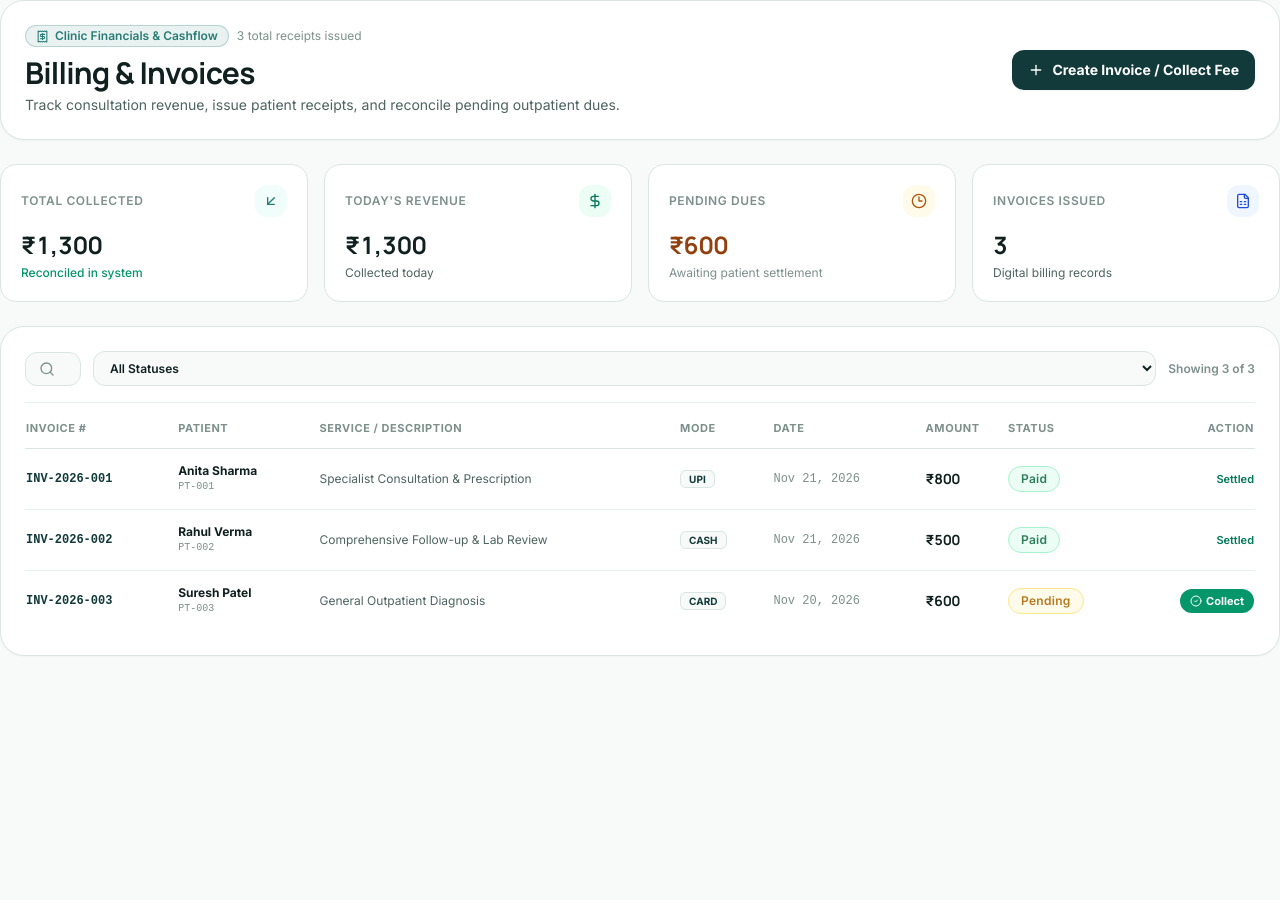
Test case: Phase 2: Role-Based Auth, Viewport Layout & Operational Views › BillingPage Component › allows creating a new patient invoice and persists it
Later steps or results of the test are not shown.
# Open modal
Click the button "Create Invoice / Collect Fee" at (1134, 70), box [1012, 50, 1255, 90]
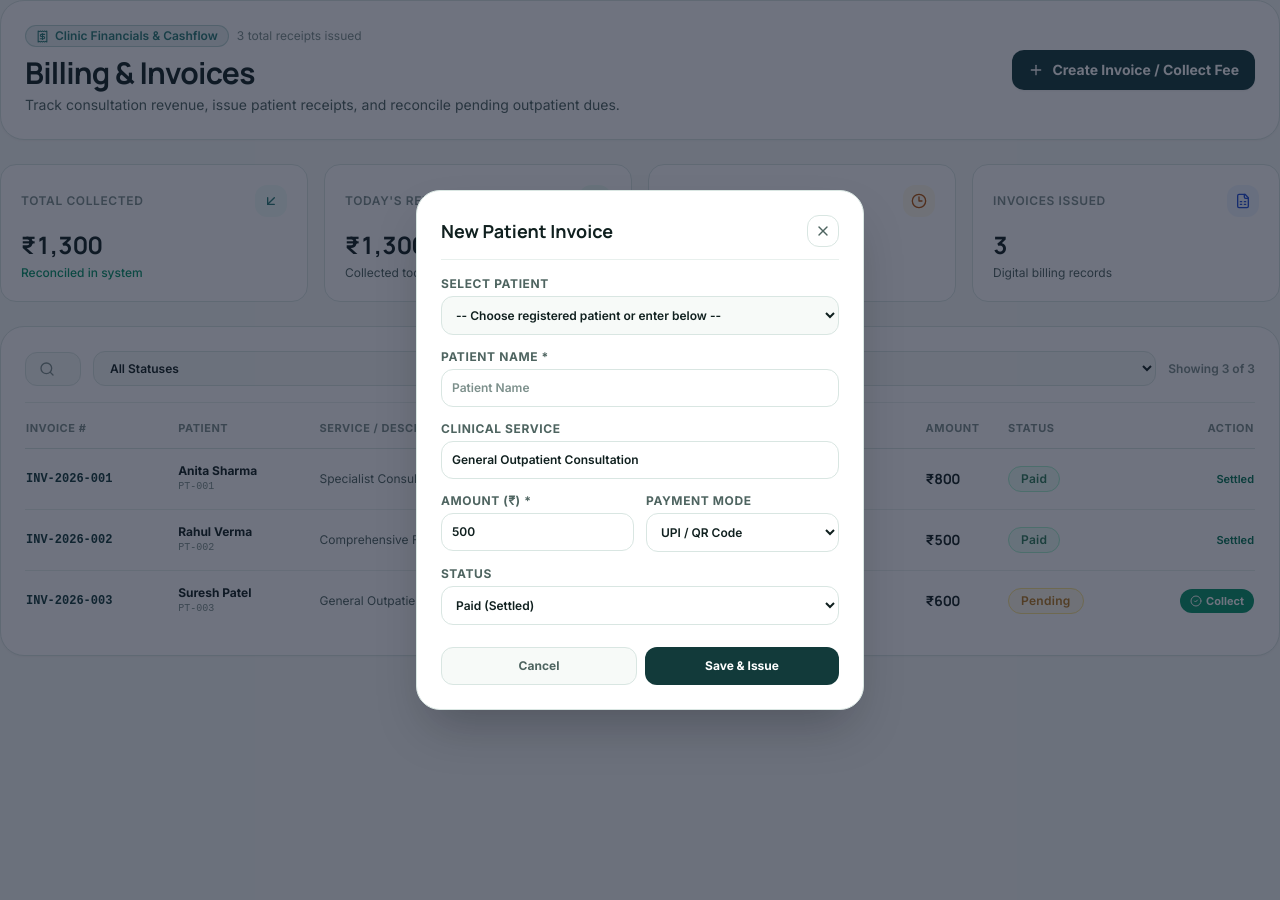
Now the heading "New Patient Invoice" is shown, box [441, 217, 613, 245]
